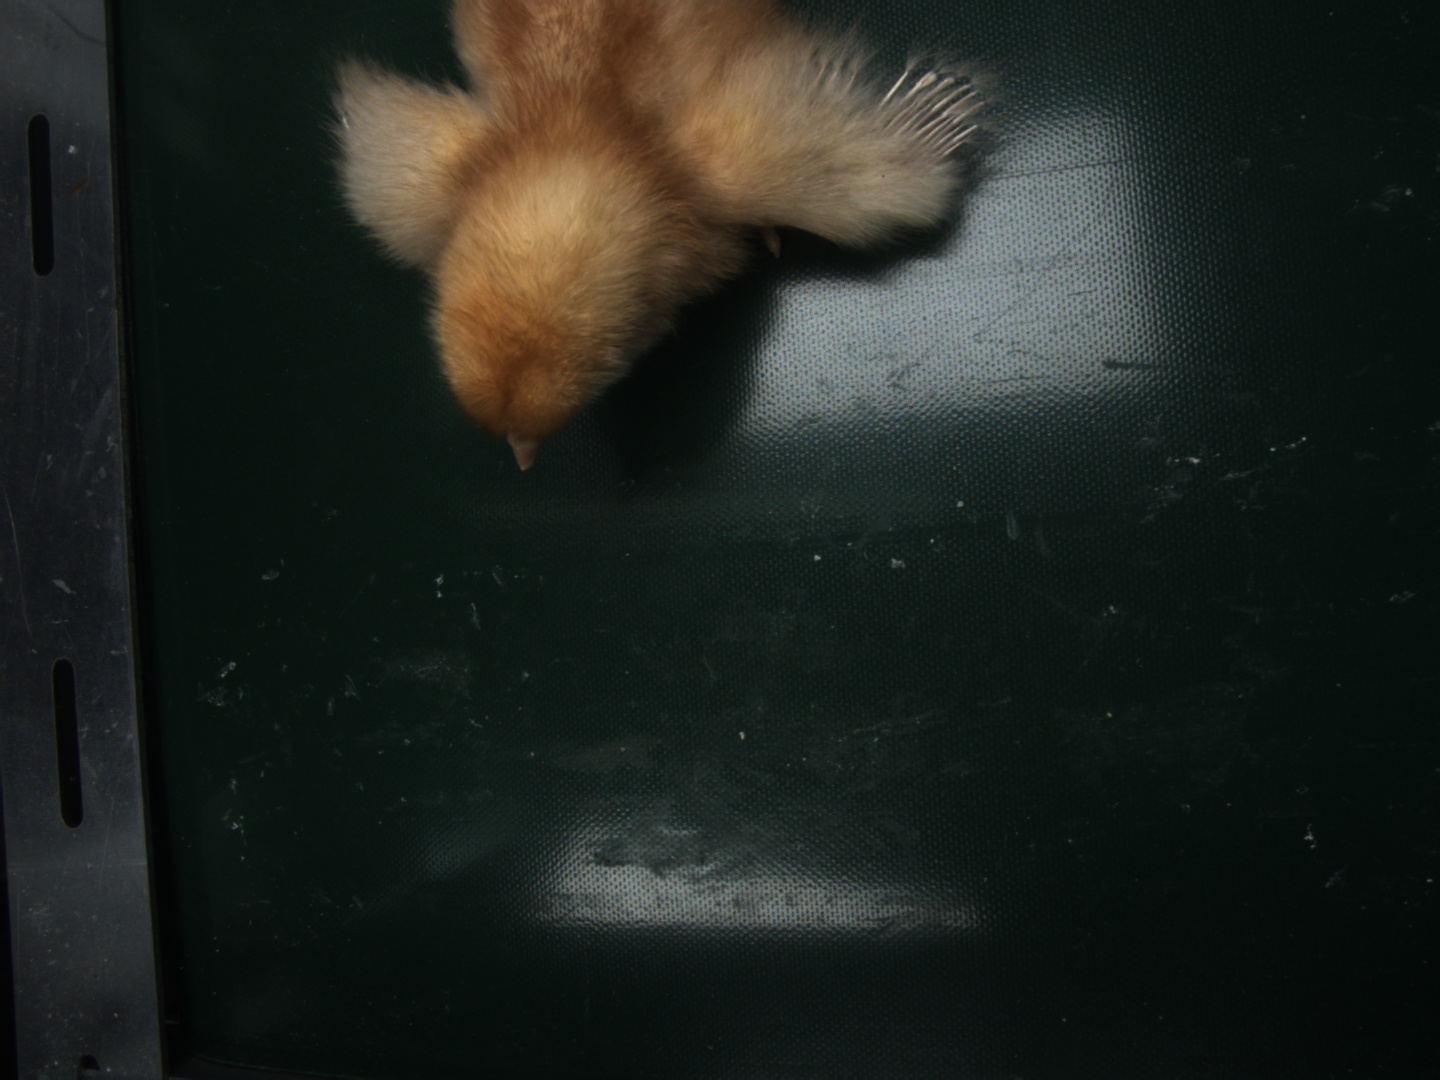female: (872, 68, 983, 166)
